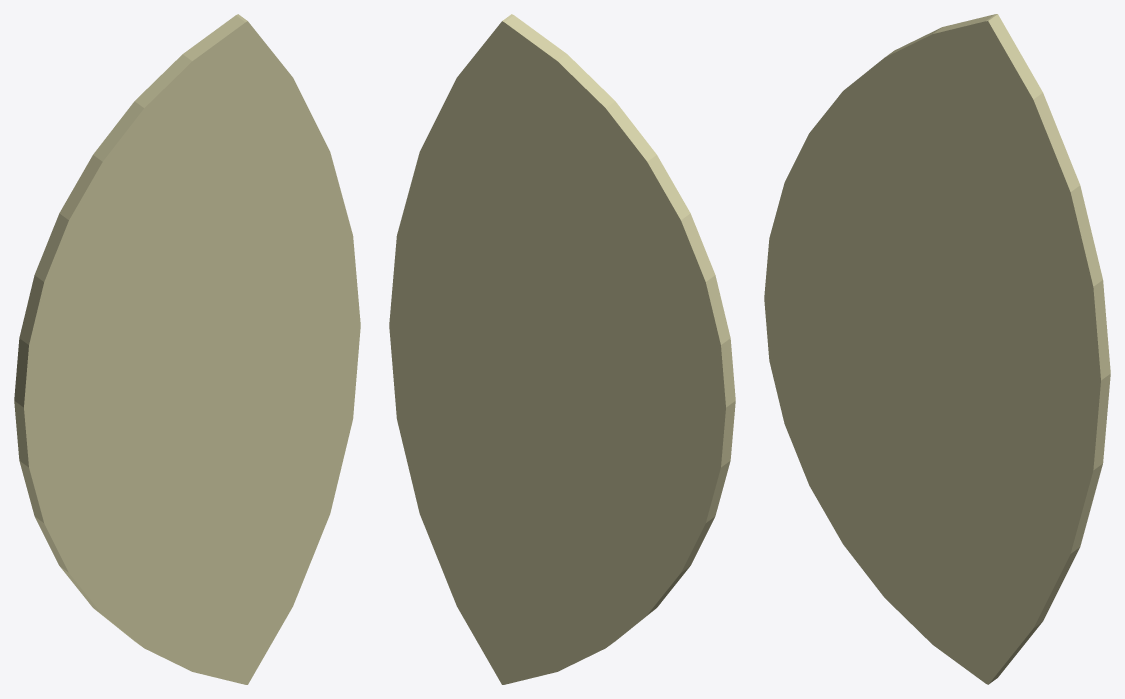
The model's file is intersect2d.glb.
The picture shows the model from 3 angles, left to right: view 1: azimuth 30°, elevation 25°; view 2: azimuth 150°, elevation 25°; view 3: azimuth 330°, elevation 25°; orthographic projection.
Visible parts, largest first — view 1: geometry_0; view 2: geometry_0; view 3: geometry_0.
Boxes of the visible parts, x1,y1,x2,y2 form: geometry_0: (14, 14, 360, 684); geometry_0: (389, 14, 735, 684); geometry_0: (764, 14, 1110, 684).
Bounding box in the file's own units: 4 × 7.53 × 0.2.
